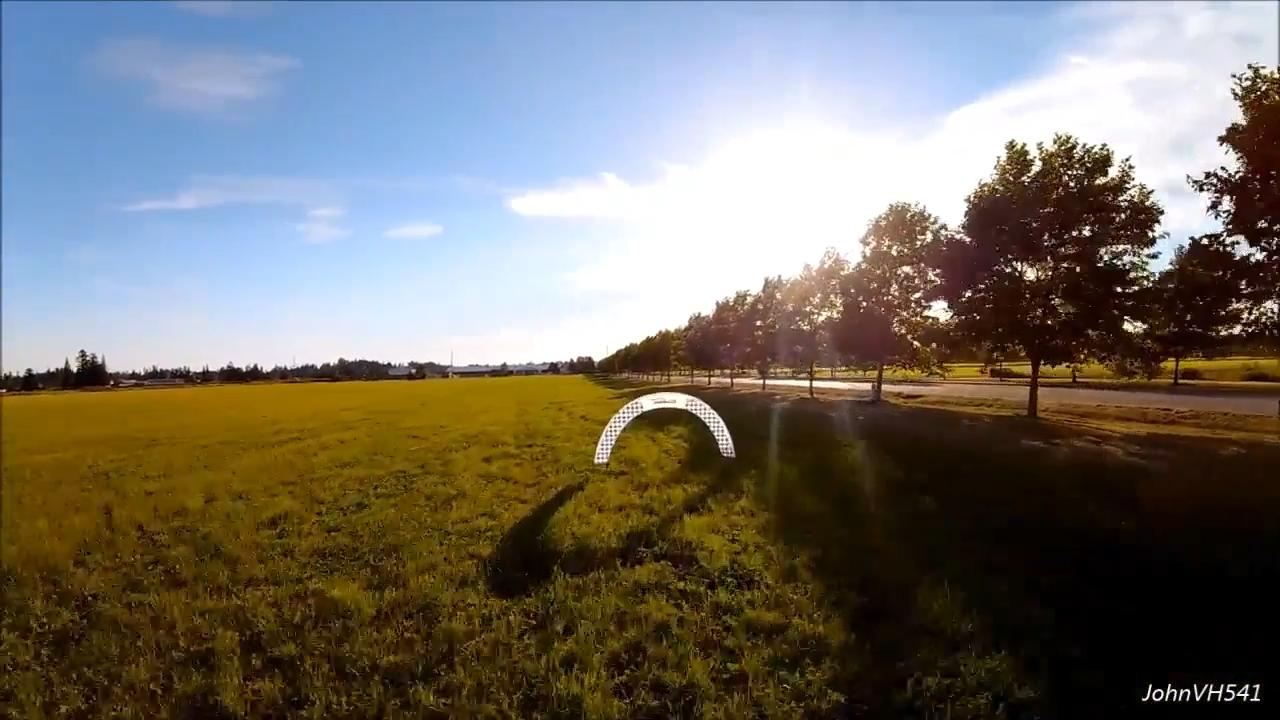gate: (595, 390, 741, 460)
